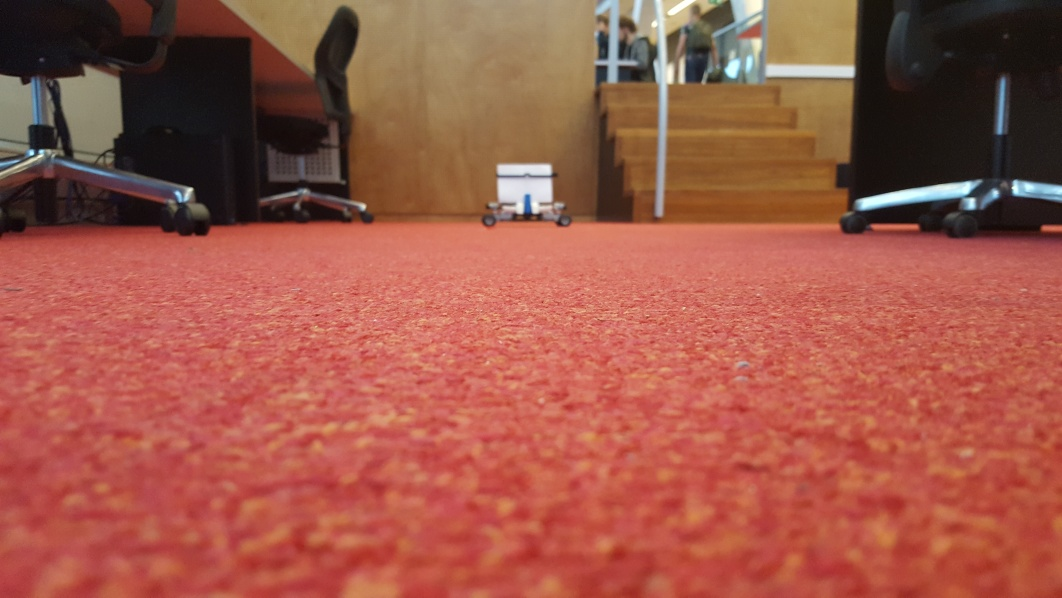car: (482, 161, 575, 227)
